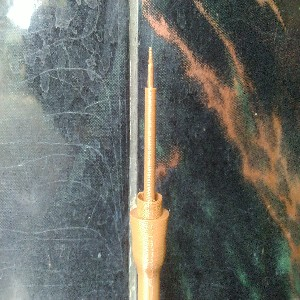solder: (129, 45, 169, 300)
